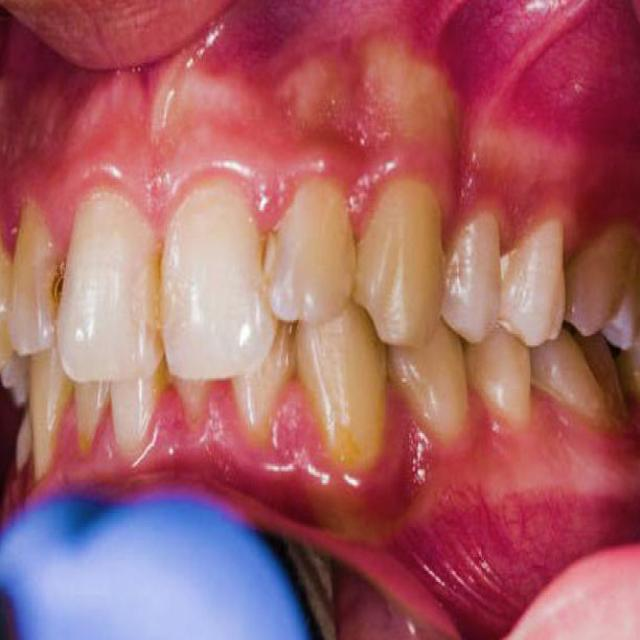caries: (245, 224, 290, 285), (41, 255, 73, 309)
